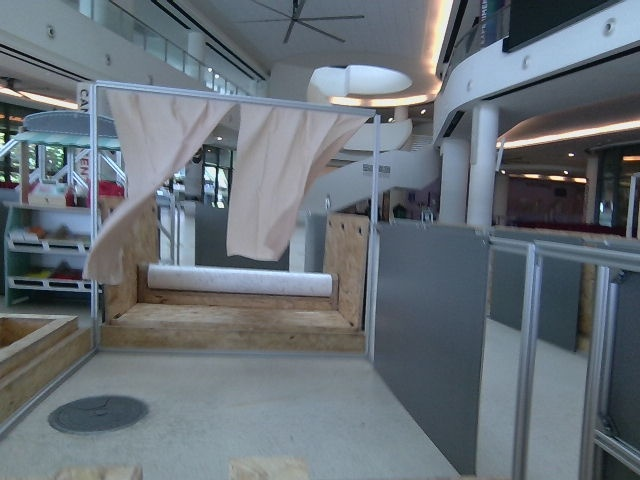curtain: (96, 77, 371, 288)
